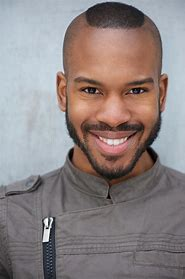person: (54, 2, 169, 180)
